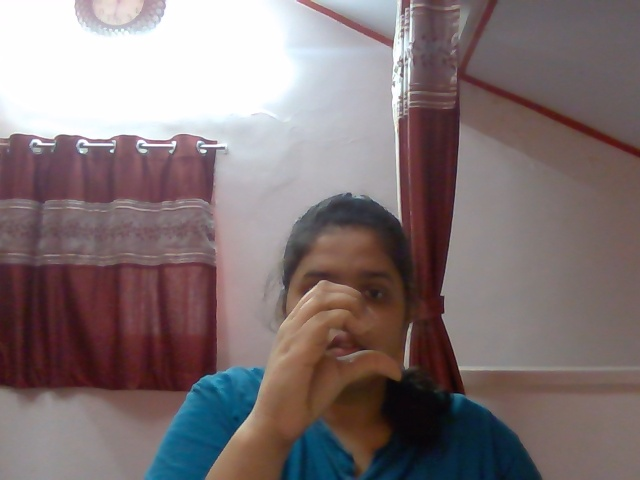c: (246, 270, 406, 440)
